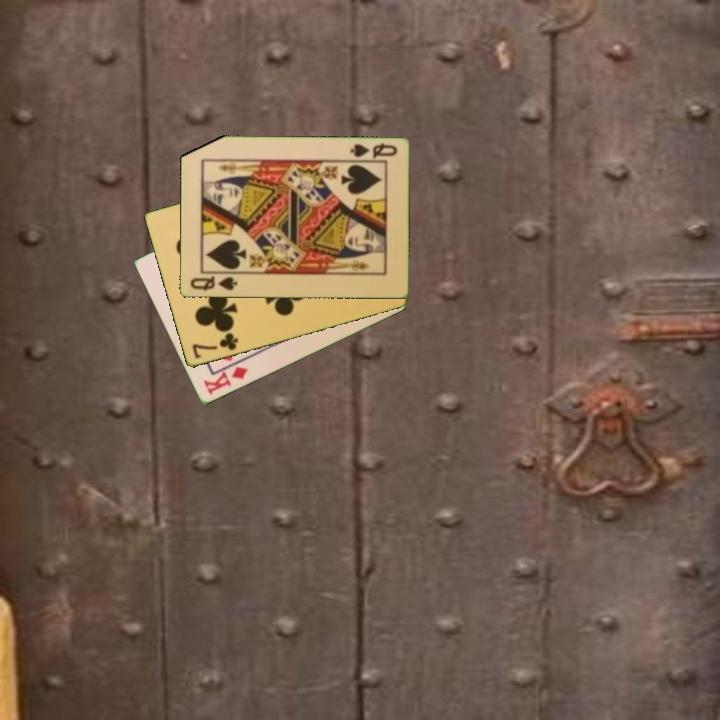7c: (188, 329, 241, 362)
Kd: (200, 363, 251, 398)
Qs: (347, 140, 400, 163), (186, 273, 240, 294)
